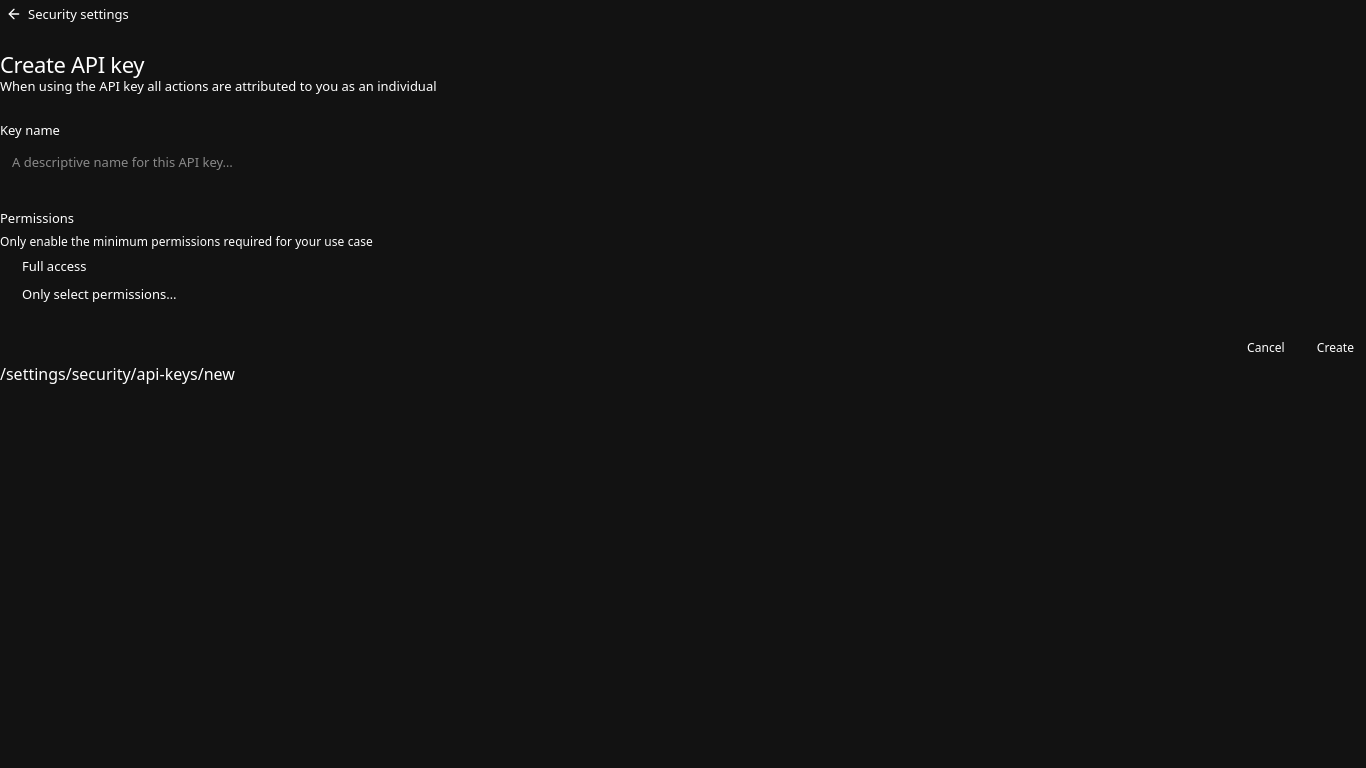
Test case: ApiKeyCreatePage › as Admin › one-time token dialog › Copy writes the token to the clipboard and shows Copied
The width and height of the screenshot is (1366, 768).
Type "CI deploy" into the field labelled "Key name" at (683, 162), box [0, 146, 1365, 178]
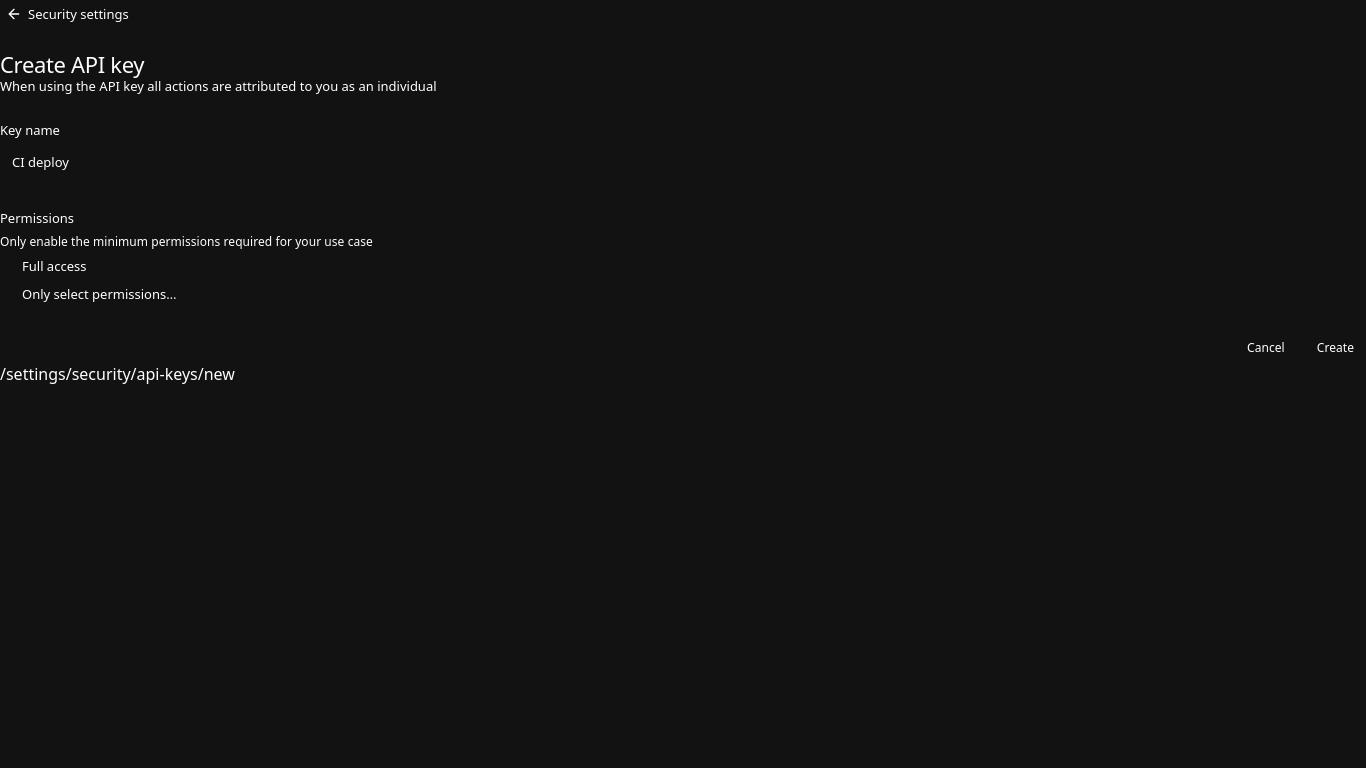
Click the button "Create" at (1335, 348), box [1305, 334, 1365, 362]
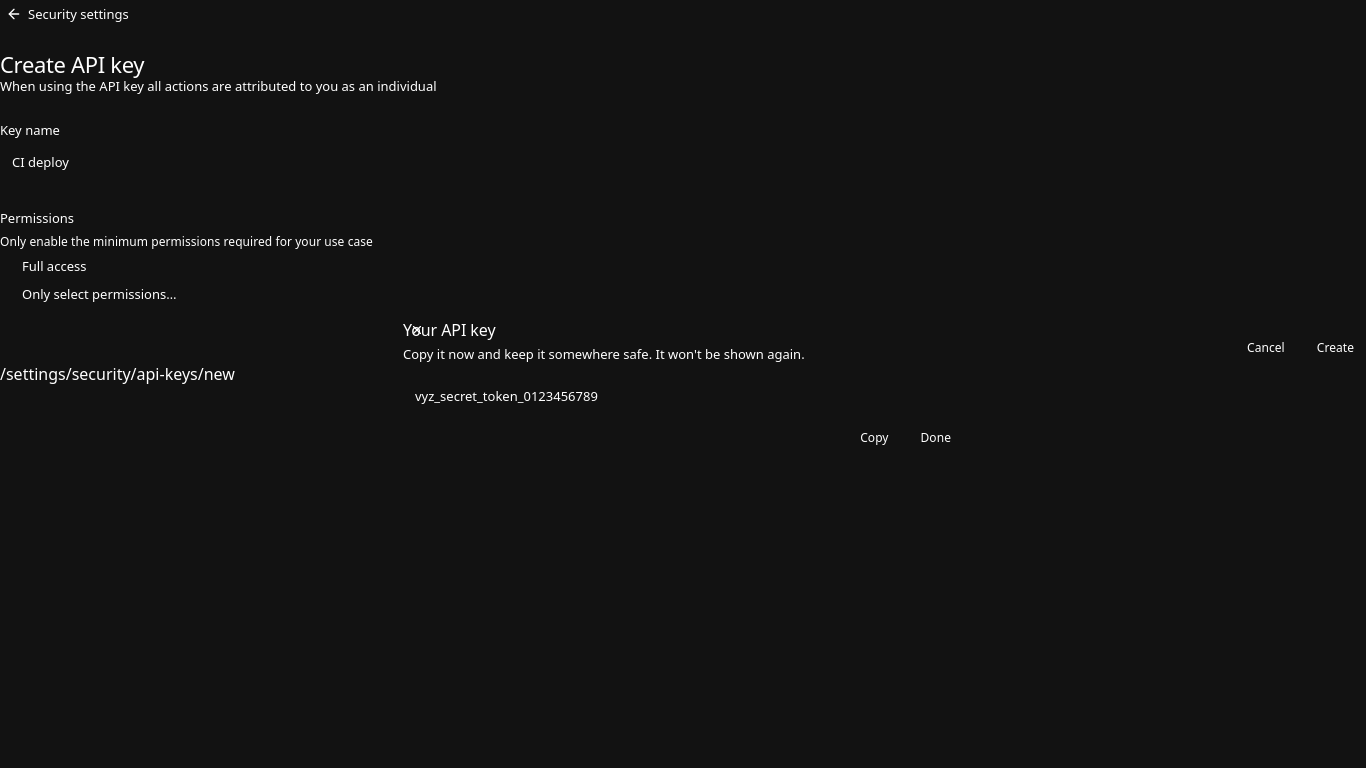
Now the dialog "Your API key" is shown, box [403, 304, 963, 464]
Click the button "Copy" at (874, 438), box [848, 424, 901, 452]
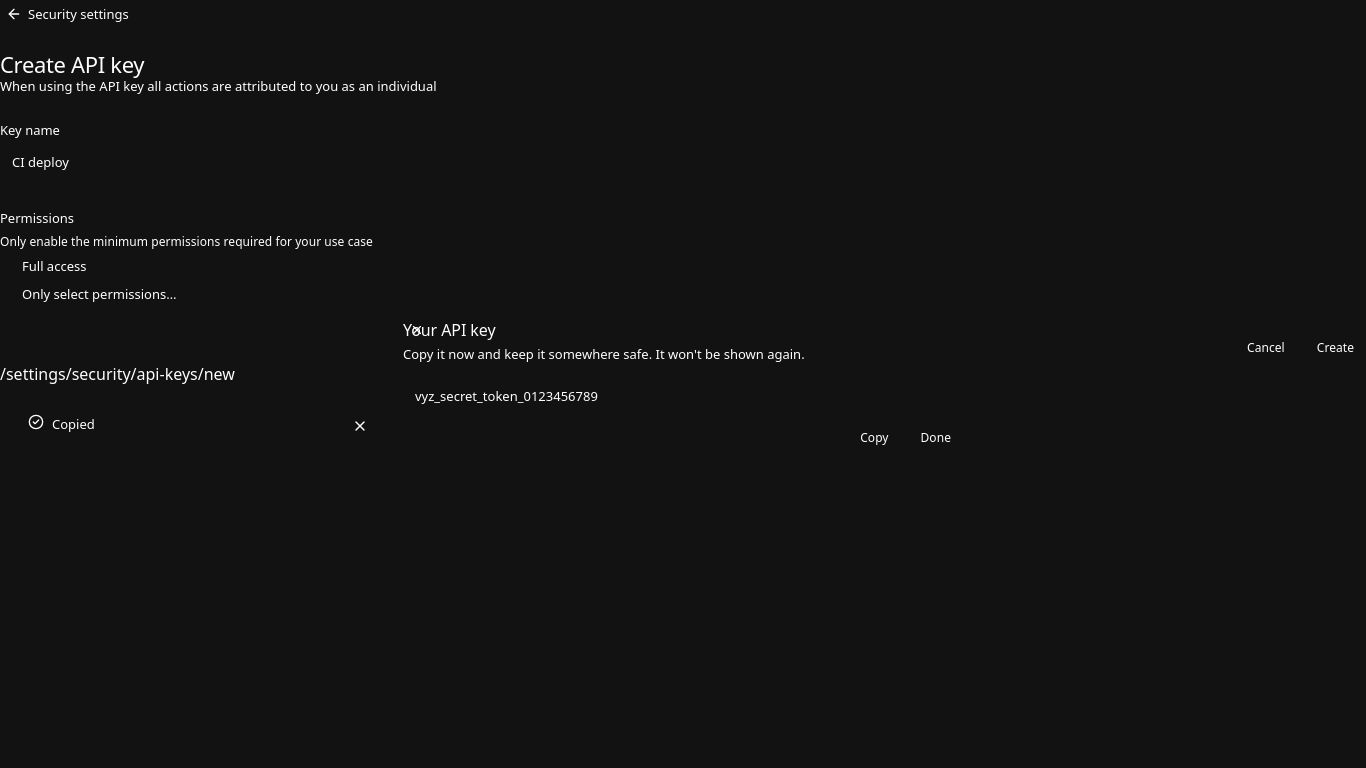
Now the dialog "Your API key" is shown, box [403, 304, 963, 464]
Now the text "Copied" is shown, box [52, 415, 95, 433]
